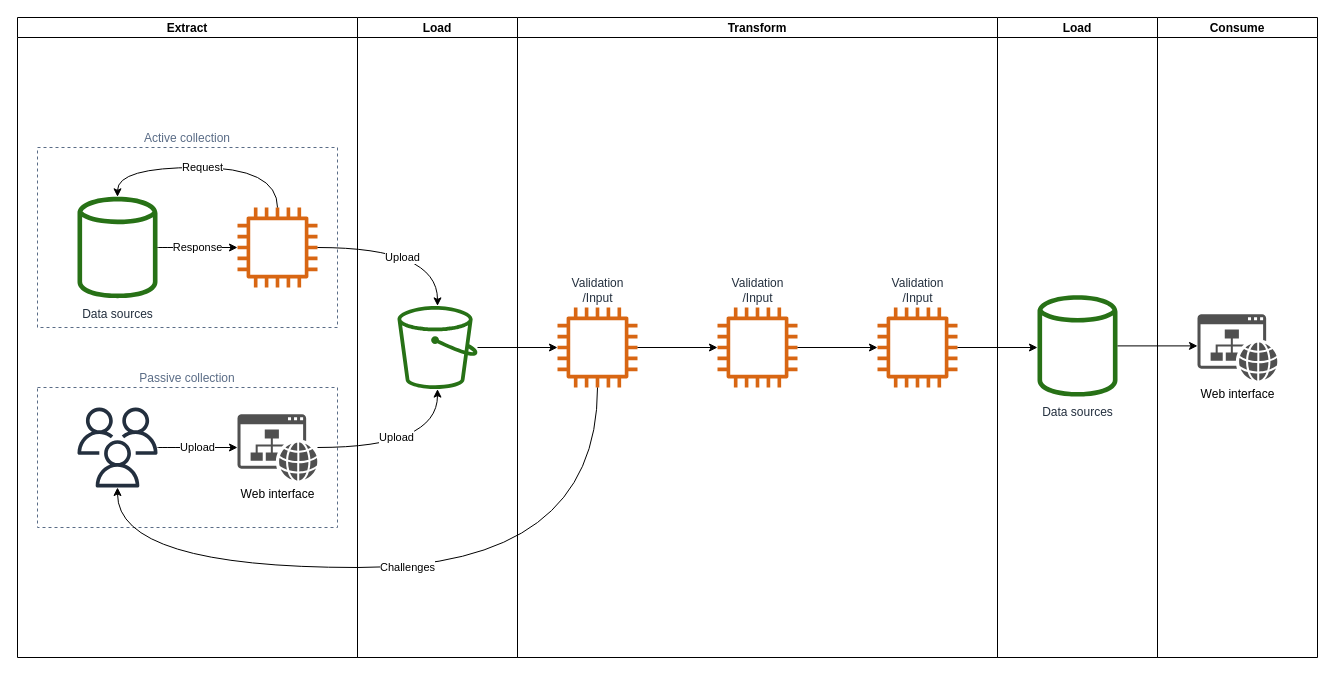
Some shapes in this 1335 by 675 pixel diagram are drawn without their labels. The centre of each missing label's shape, as x and y in pixels:
"Data providers" belongs at (117,447).
"Extraction" belongs at (277,247).
"Object store" belongs at (437,347).
